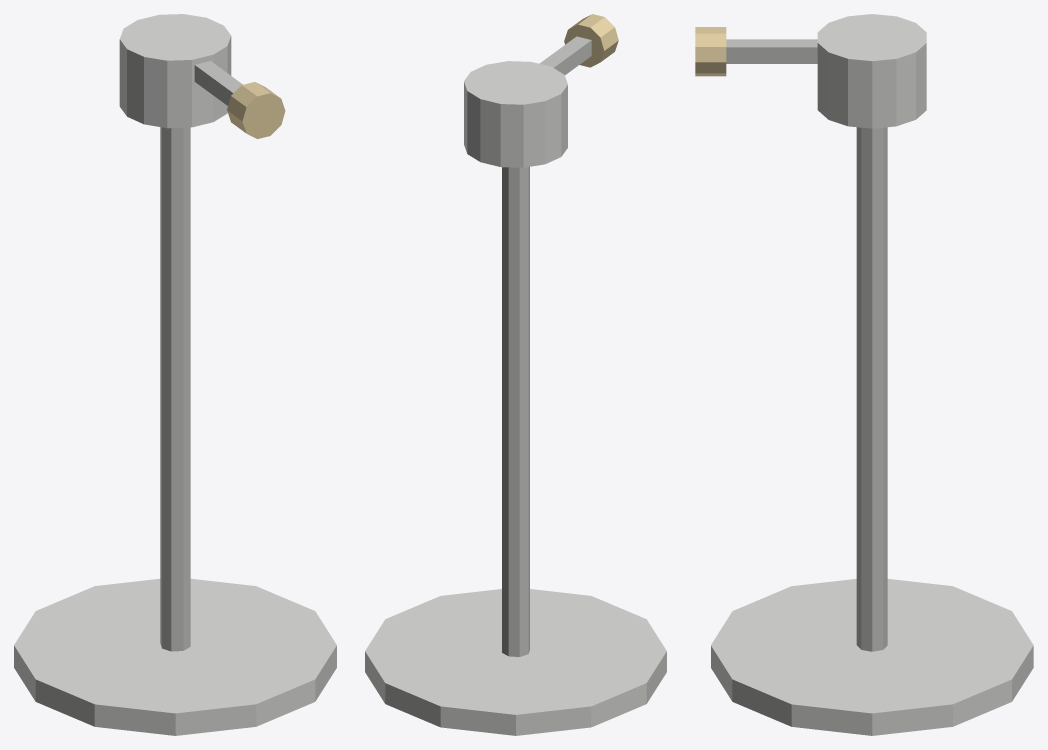
Rendered from vaporizador_ozonio.obj.
3 views of the same model, side by side, from view 1: azimuth 30°, elevation 25°; view 2: azimuth 150°, elevation 25°; view 3: azimuth 270°, elevation 25° (orthographic). The views are drawn at different scales.
Visible parts, largest first — view 1: vaporizador_ozonio; view 2: vaporizador_ozonio; view 3: vaporizador_ozonio.
Part boxes in pixels (x1,y1,x2,y2): vaporizador_ozonio: (14,14,336,735); vaporizador_ozonio: (365,14,666,735); vaporizador_ozonio: (695,14,1033,735).
Size of the model in its own units: 52 by 113 by 54.5.
